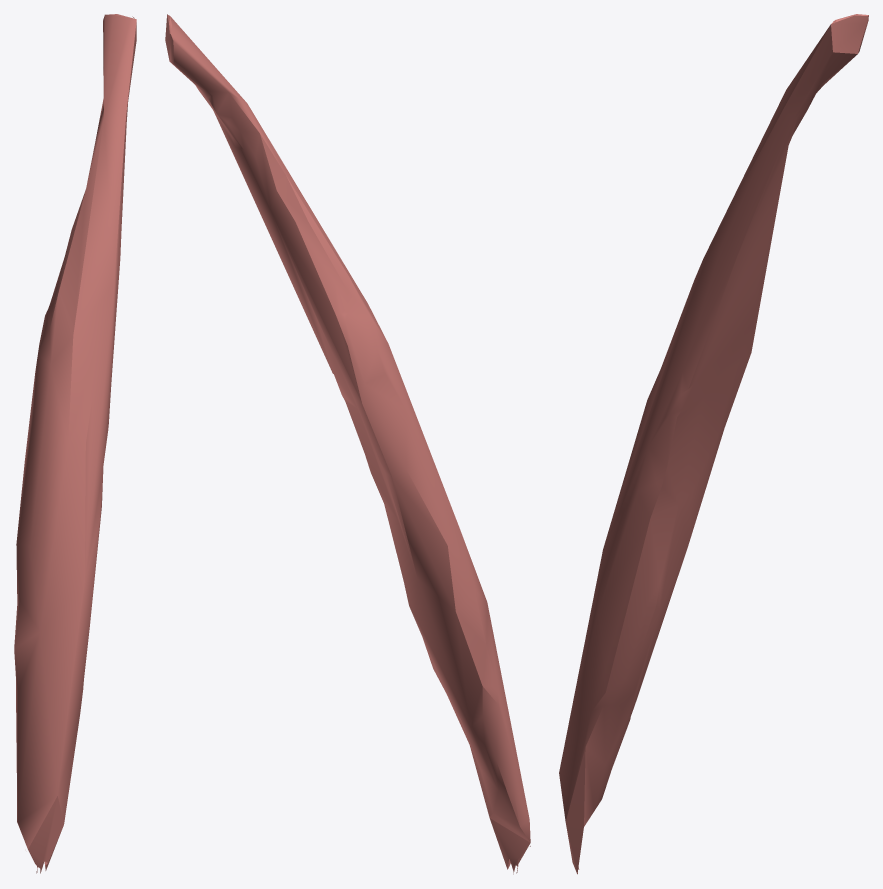
Rendered from fma37399_fj1470m.glb.
3 renders of one model, left to right at view 1: azimuth 30°, elevation 25°; view 2: azimuth 150°, elevation 25°; view 3: azimuth 270°, elevation 25°, orthographic. The views are drawn at different scales.
Visible parts, largest first — view 1: FMA37399_FJ1470M; view 2: FMA37399_FJ1470M; view 3: FMA37399_FJ1470M.
Boxes of the visible parts, x1=… form: FMA37399_FJ1470M: x1=14, y1=14, x2=136, y2=873; FMA37399_FJ1470M: x1=165, y1=14, x2=530, y2=874; FMA37399_FJ1470M: x1=559, y1=14, x2=868, y2=874.
Size of the model in its own units: 0.0179 by 0.0602 by 0.0173.
